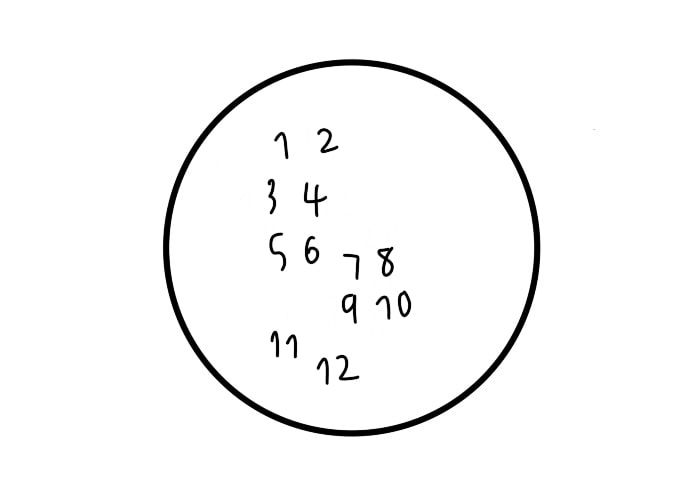eight: (374, 247, 396, 280)
eleven: (267, 328, 299, 361)
five: (268, 230, 290, 272)
four: (302, 182, 327, 218)
nine: (338, 291, 360, 326)
one: (272, 128, 292, 161)
seven: (340, 250, 362, 283)
six: (305, 233, 321, 267)
ten: (374, 289, 413, 321)
three: (264, 177, 278, 216)
twelve: (314, 353, 362, 386)
two: (317, 127, 338, 156)
